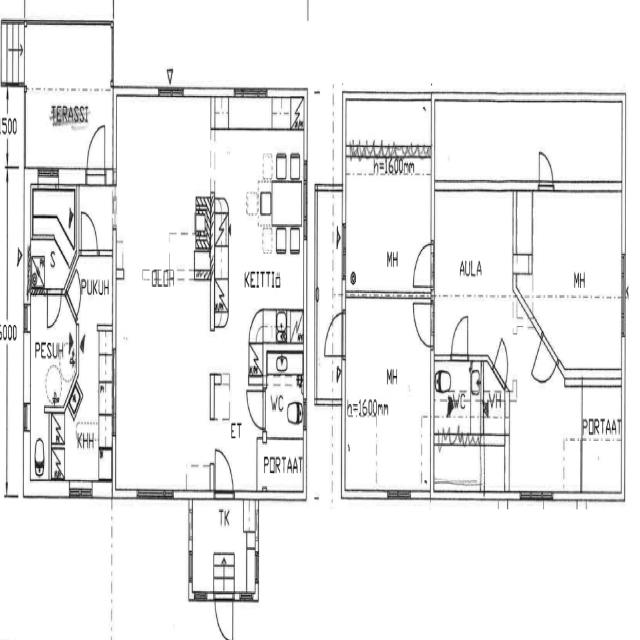door: (531, 332, 558, 398), (492, 339, 514, 390), (87, 124, 105, 184), (66, 270, 86, 320), (324, 312, 346, 356), (413, 304, 435, 346), (413, 244, 435, 286), (215, 593, 233, 640), (216, 450, 233, 499), (81, 212, 97, 256), (452, 317, 468, 361), (248, 391, 266, 428), (539, 149, 553, 192), (48, 288, 62, 328)
